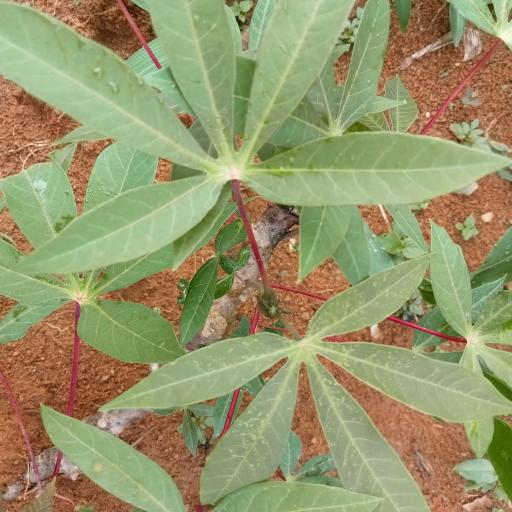Cassava_Mosaic: (7, 2, 485, 266), (110, 263, 498, 512)
